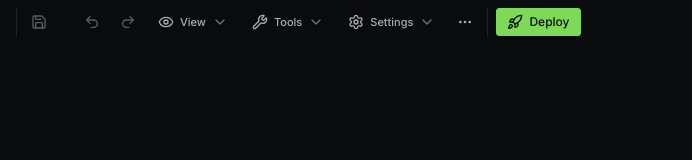
Test case: FlowToolbar › responsive overflow › moves tier-two actions into an overflow menu below xl
Expected: the field labelled "Validate pipeline" is not shown
Press the mouse on the button named "More actions": {"x": 466, "y": 22} x1=452 y1=8 x2=480 y2=36
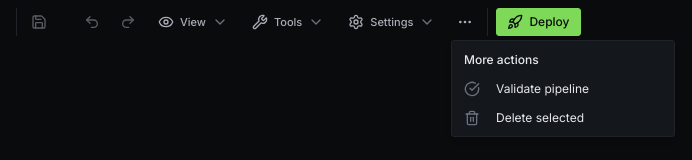
Now the menu item "Validate pipeline" is shown, box x1=464 y1=81 x2=589 y2=97
Now the menu item "Delete selected" is shown, box x1=464 y1=110 x2=584 y2=126
